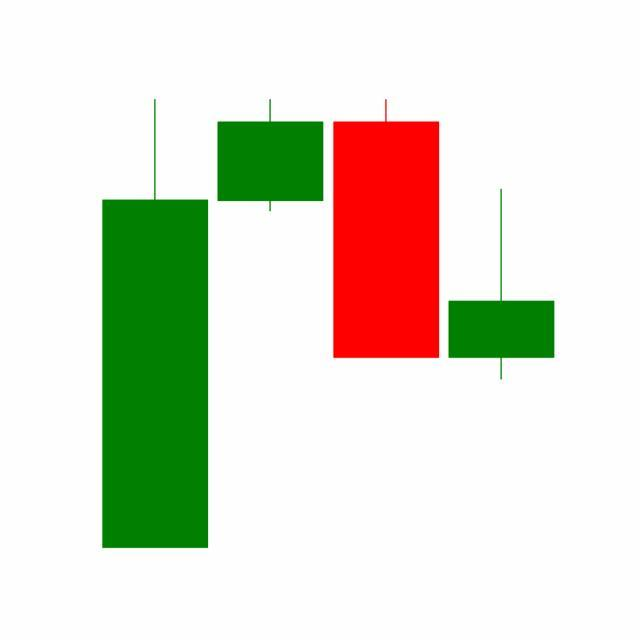Marubozu: (329, 96, 445, 361)
